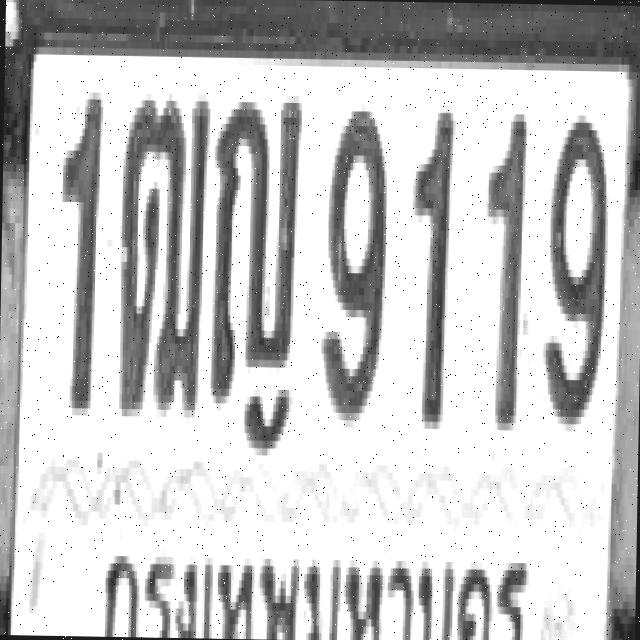1: (408, 108, 453, 426), (57, 92, 102, 408), (482, 110, 526, 426)
22YorYing: (208, 90, 300, 408)
27ThorPhuThao: (117, 89, 209, 414)
9: (321, 103, 386, 420), (543, 114, 606, 424)
Bangkok: (98, 525, 536, 640)
